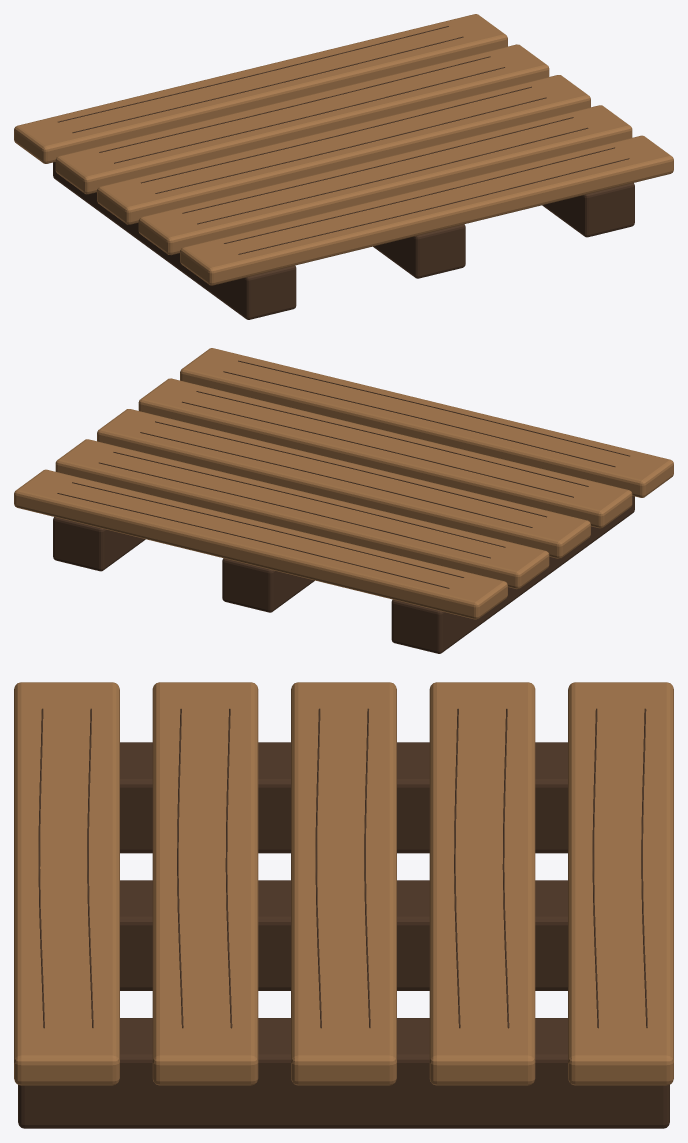
The model's file is pallet.glb.
The picture shows the model from 3 angles, top to bottom: view 1: azimuth 30°, elevation 25°; view 2: azimuth 150°, elevation 25°; view 3: azimuth 270°, elevation 25°; orthographic projection. The views are drawn at different scales.
Parts seen in each view (by area): view 1: Bevelled_timber.004, Bevelled_timber.001, Bevelled_timber.003, Bevelled_timber, Bevelled_timber.002, Runner, Runner.001, Runner.002, Fine_wood_grain.004, Fine_wood_grain.006, Fine_wood_grain.002, Fine_wood_grain.001 (+6 smaller); view 2: Bevelled_timber, Bevelled_timber.001, Bevelled_timber.003, Bevelled_timber.004, Bevelled_timber.002, Runner, Runner.001, Runner.002, Fine_wood_grain.005, Fine_wood_grain.007, Fine_wood_grain.009, Fine_wood_grain (+6 smaller); view 3: Bevelled_timber.003, Bevelled_timber.001, Bevelled_timber, Bevelled_timber.002, Bevelled_timber.004, Runner.002, Runner, Runner.001, Fine_wood_grain.005, Fine_wood_grain.009, Fine_wood_grain.001, Fine_wood_grain (+6 smaller).
Part boxes in pixels (bbox=[...]): Bevelled_timber.004: bbox=[180, 135, 673, 285]; Bevelled_timber.001: bbox=[55, 44, 549, 194]; Bevelled_timber.003: bbox=[138, 105, 632, 255]; Bevelled_timber: bbox=[14, 14, 507, 163]; Bevelled_timber.002: bbox=[97, 75, 590, 224]; Runner: bbox=[53, 162, 296, 319]; Runner.001: bbox=[373, 224, 465, 278]; Runner.002: bbox=[542, 183, 634, 237]; Fine_wood_grain.004: bbox=[141, 86, 531, 183]; Fine_wood_grain.006: bbox=[182, 117, 573, 213]; Fine_wood_grain.002: bbox=[99, 56, 490, 152]; Fine_wood_grain.001: bbox=[72, 36, 463, 132]; Bevelled_timber: bbox=[14, 469, 507, 619]; Bevelled_timber.001: bbox=[55, 439, 549, 589]; Bevelled_timber.003: bbox=[138, 378, 632, 528]; Bevelled_timber.004: bbox=[180, 348, 673, 497]; Bevelled_timber.002: bbox=[97, 409, 590, 558]; Runner: bbox=[391, 496, 634, 653]; Runner.001: bbox=[222, 558, 314, 612]; Runner.002: bbox=[53, 517, 145, 571]; Fine_wood_grain.005: bbox=[155, 421, 546, 517]; Fine_wood_grain.007: bbox=[196, 391, 588, 486]; Fine_wood_grain.009: bbox=[238, 360, 629, 456]; Fine_wood_grain: bbox=[57, 493, 449, 588]; Bevelled_timber.003: bbox=[152, 682, 258, 1085]; Bevelled_timber.001: bbox=[429, 682, 535, 1085]; Bevelled_timber: bbox=[568, 682, 673, 1085]; Bevelled_timber.002: bbox=[291, 682, 396, 1085]; Bevelled_timber.004: bbox=[14, 682, 119, 1085]; Runner.002: bbox=[18, 1018, 669, 1128]; Runner: bbox=[120, 742, 567, 853]; Runner.001: bbox=[120, 880, 567, 990]; Fine_wood_grain.005: bbox=[315, 708, 321, 1028]; Fine_wood_grain.009: bbox=[38, 708, 44, 1028]; Fine_wood_grain.001: bbox=[592, 708, 598, 1028]; Fine_wood_grain: bbox=[641, 708, 647, 1027].
Bounding box in the file's own units: 1.1 × 0.142 × 0.81.
